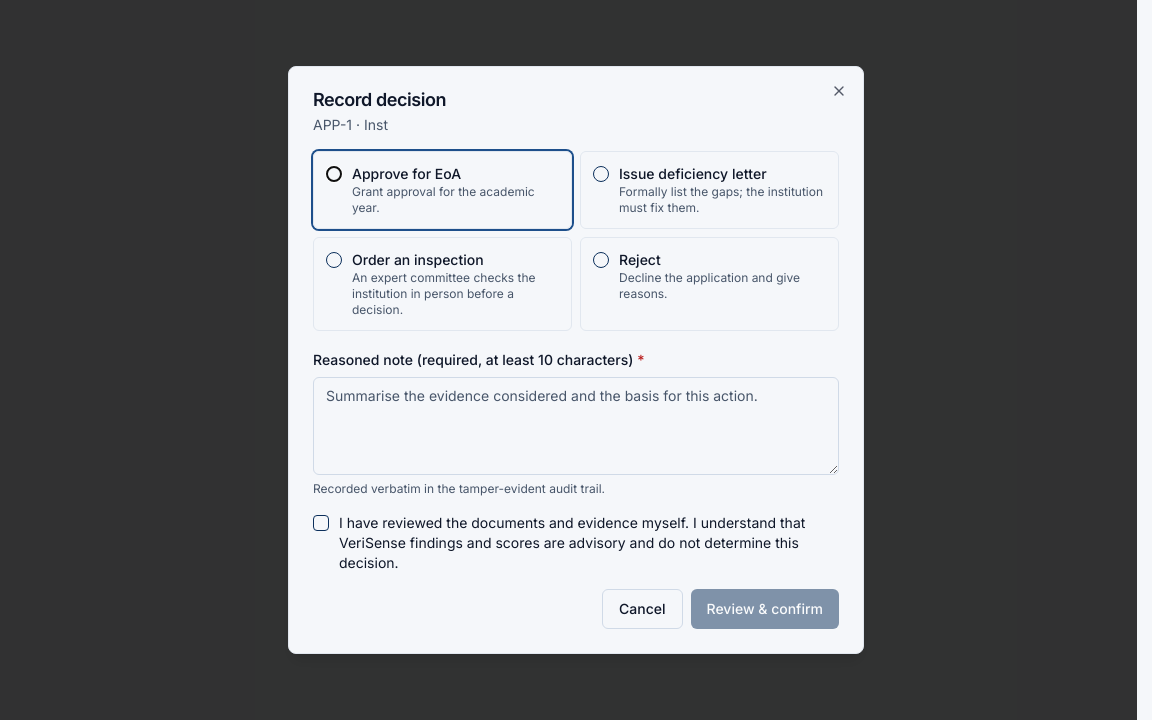
Scenario: DecisionDialog guard › enables approval when critical findings are rectified/dismissed
Click the radio button next to "Approve for EoA" at (334, 174), box x1=326 y1=166 x2=342 y2=182
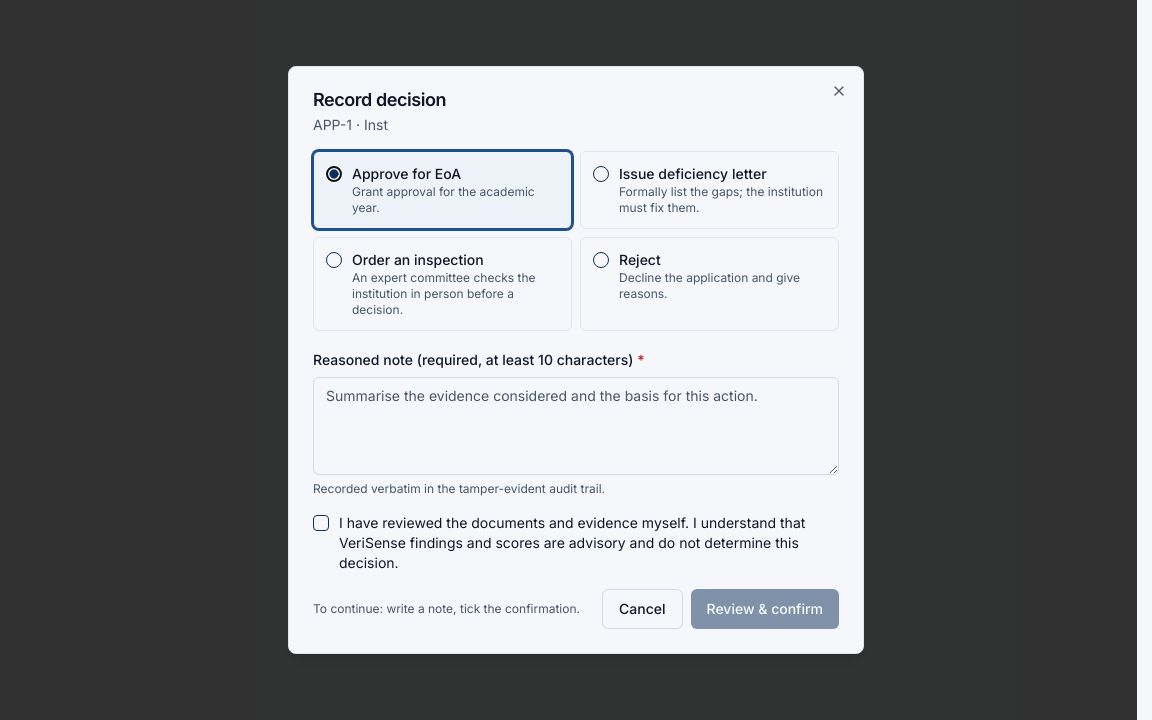
Replace the text in the text box with "A sufficiently long note" at (576, 426), box x1=313 y1=377 x2=839 y2=475
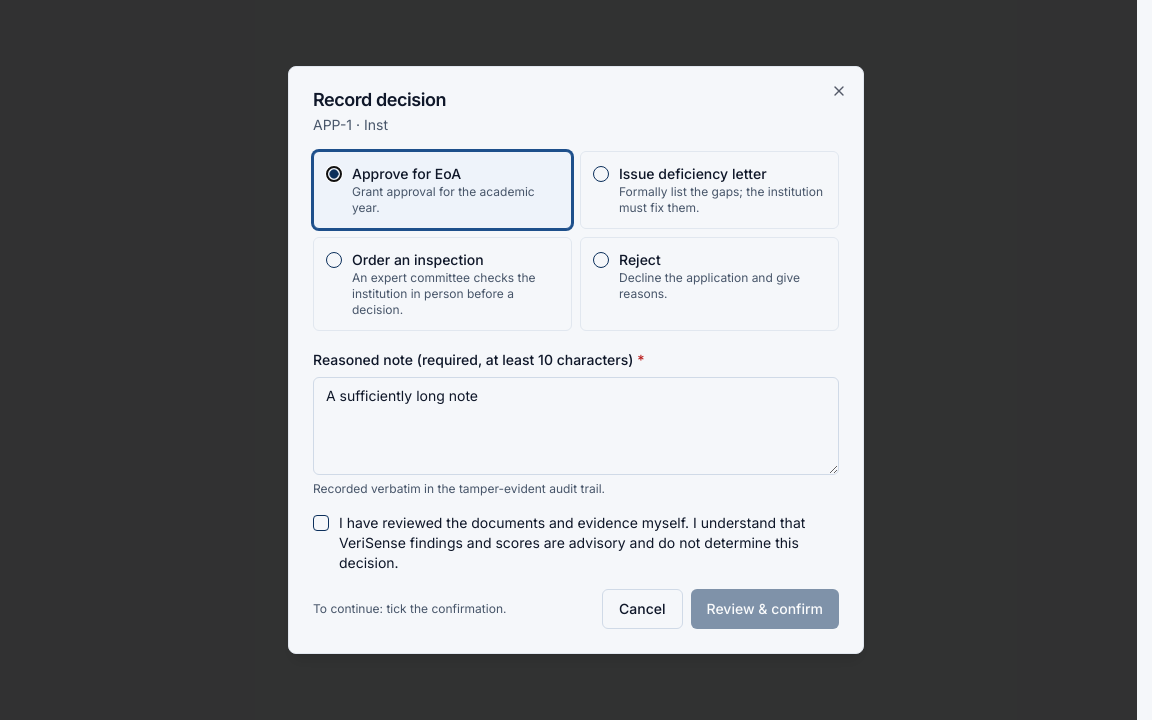
Click the checkbox at (321, 523), box x1=313 y1=515 x2=329 y2=531
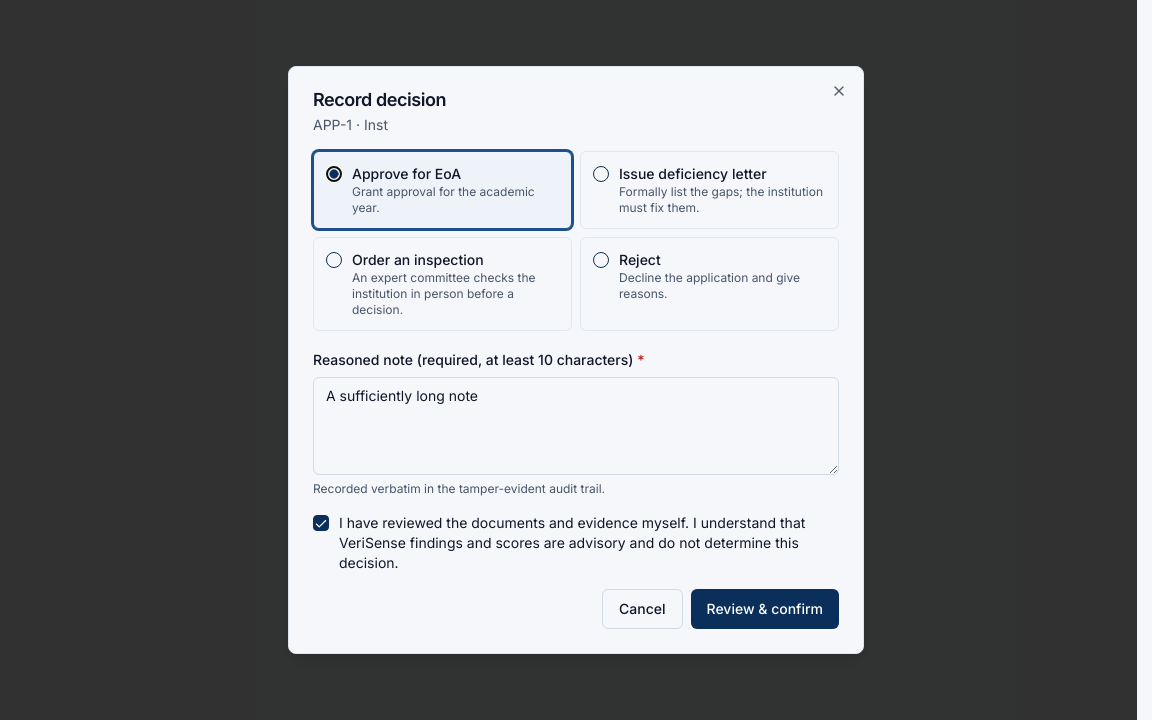
Expected: the button "Review & confirm" is enabled, x1=690 y1=589 x2=839 y2=629
